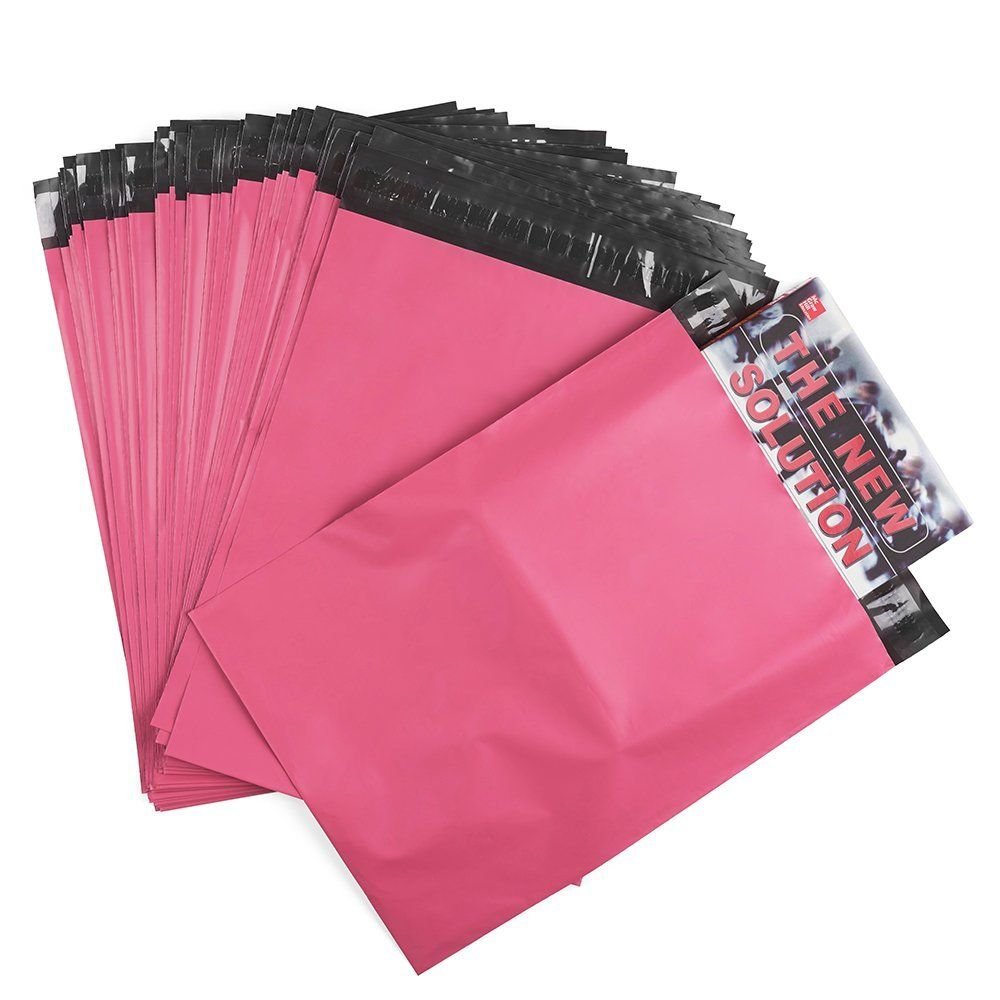塑料袋: (35, 103, 968, 972)
